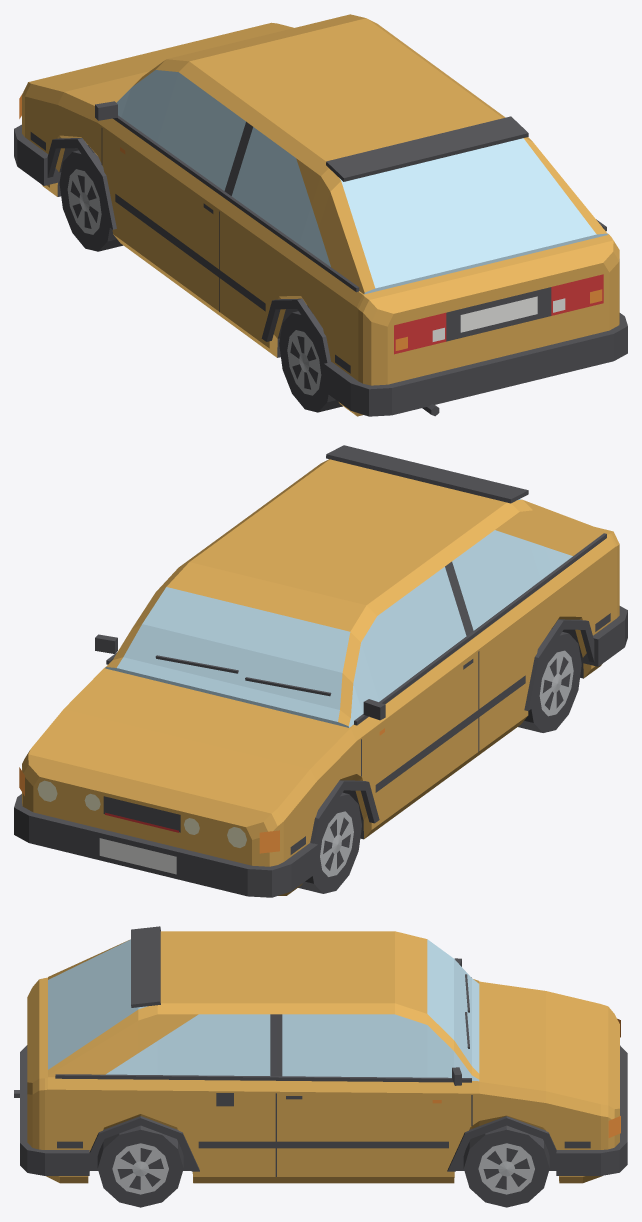
The model's file is gti.glb.
The picture shows the model from 3 angles, top to bottom: view 1: azimuth 30°, elevation 25°; view 2: azimuth 150°, elevation 25°; view 3: azimuth 270°, elevation 25°; orthographic projection. The views are drawn at different scales.
Visible parts, largest first — view 1: body, door_FL, wheel_FL, wheel_RL; view 2: body, door_FL, wheel_RL, wheel_FL; view 3: body, door_FR, wheel_RR, wheel_FR.
Part boxes in pixels (x1,y1,x2,y2): body: (14,14,627,416); door_FL: (102,70,249,320); wheel_FL: (59,147,123,251); wheel_RL: (279,308,342,412); body: (14,445,627,897); door_FL: (351,564,478,838); wheel_RL: (518,629,581,732); wheel_FL: (298,792,361,893); body: (14,926,627,1183); door_FR: (276,1014,471,1183); wheel_RR: (97,1125,183,1207); wheel_FR: (463,1125,549,1207).
Bounding box in the file's own units: 1.87 × 1.43 × 4.14.
